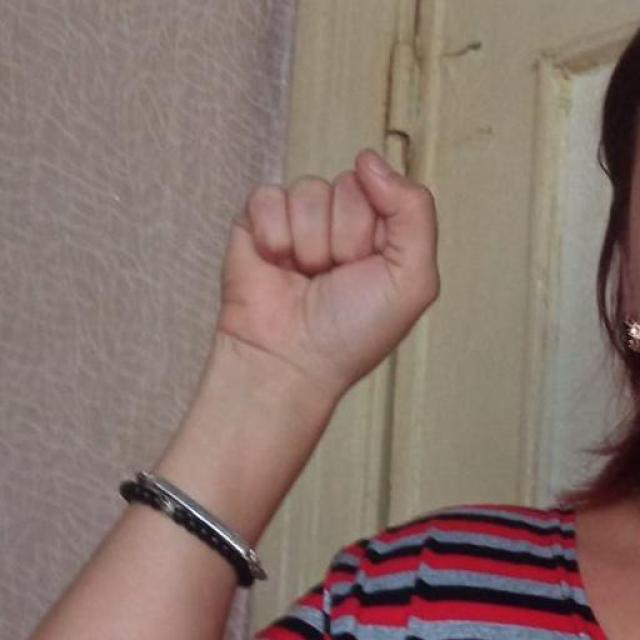hand: (214, 146, 441, 394)
